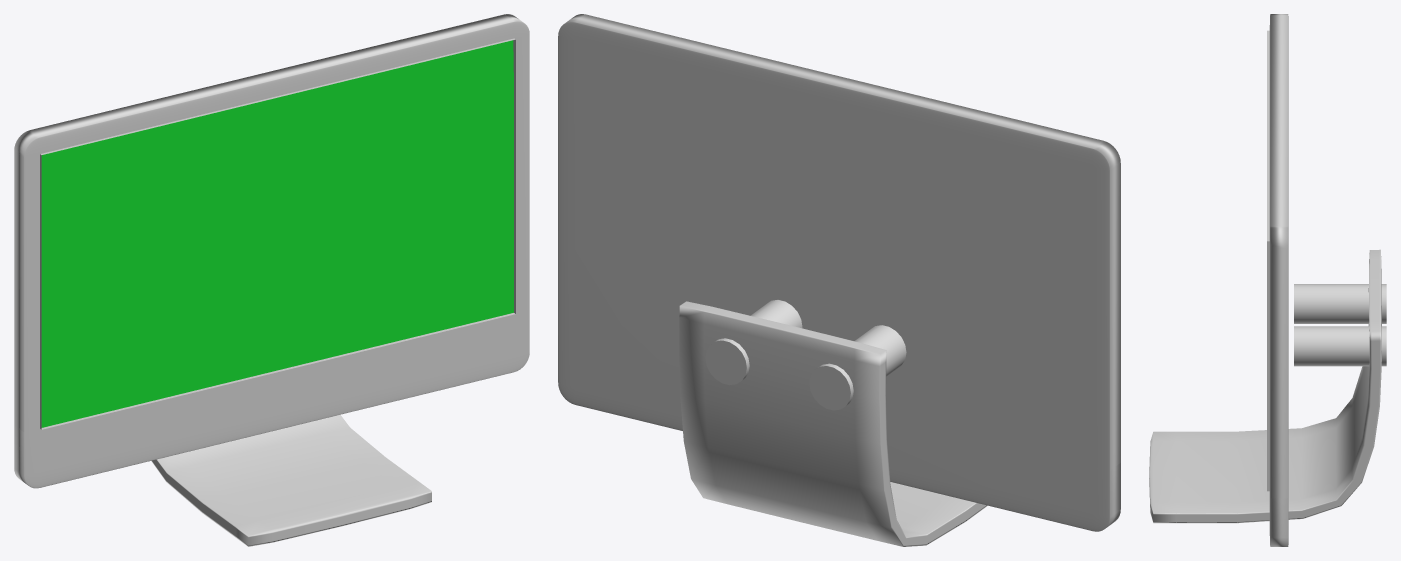
The picture shows the model from 3 angles, left to right: view 1: azimuth 30°, elevation 25°; view 2: azimuth 150°, elevation 25°; view 3: azimuth 270°, elevation 25°; orthographic projection. The views are drawn at different scales.
Visible parts, largest first — view 1: screen, bottompartmonitor, toppartmonitor, support; view 2: toppartmonitor, support, bottompartmonitor, supportpiece2, supporpiece1; view 3: support, toppartmonitor, supporpiece1, supportpiece2, bottompartmonitor.
Part boxes in pixels (x1,y1,x2,y2): screen: (41,40,513,427); bottompartmonitor: (14,309,529,488); toppartmonitor: (14,14,529,432); support: (151,414,431,546); toppartmonitor: (558,14,1120,470); support: (679,301,987,546); bottompartmonitor: (558,336,1120,531); supportpiece2: (809,325,906,410); supporpiece1: (705,300,802,385); support: (1149,249,1381,523); toppartmonitor: (1267,14,1288,498); supporpiece1: (1294,326,1386,366); supportpiece2: (1294,284,1386,323); bottompartmonitor: (1269,494,1288,546).
Size of the model in its own units: 2.62 by 1.97 by 1.17.
